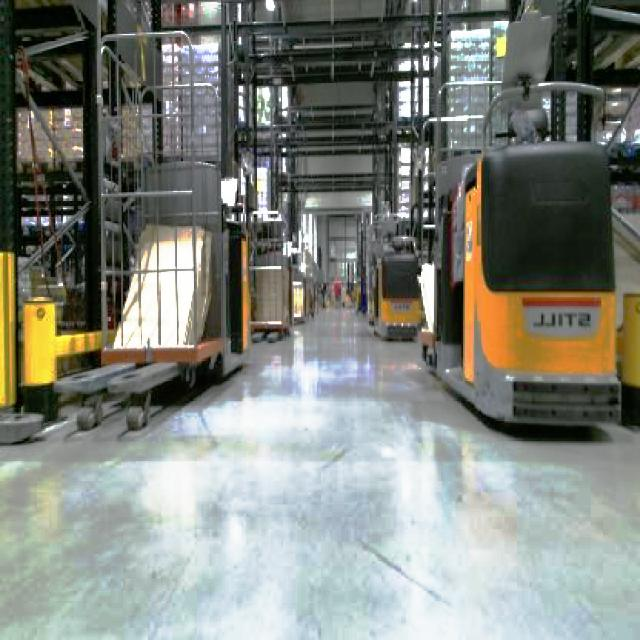ground: (0, 297, 638, 638)
pallet: (568, 0, 638, 428), (98, 222, 222, 366), (52, 337, 223, 431), (609, 203, 638, 429), (52, 358, 135, 429), (106, 360, 180, 429), (18, 295, 58, 420), (248, 262, 291, 340), (617, 289, 638, 429), (0, 248, 17, 415)
